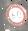Speed Limit -60-: (3, 2, 26, 25)
